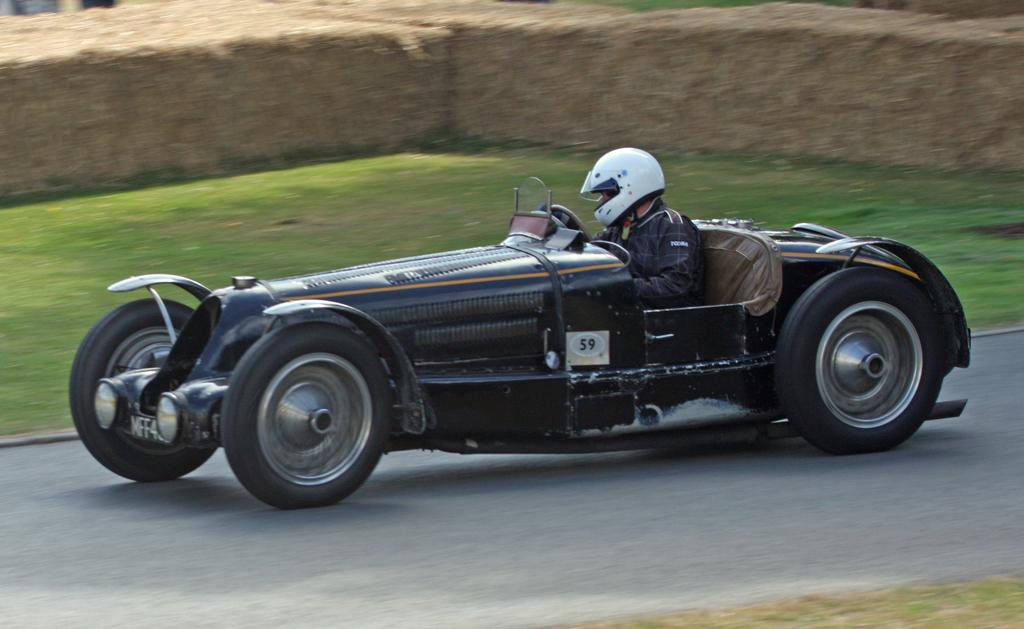helmet: (579, 147, 665, 228)
